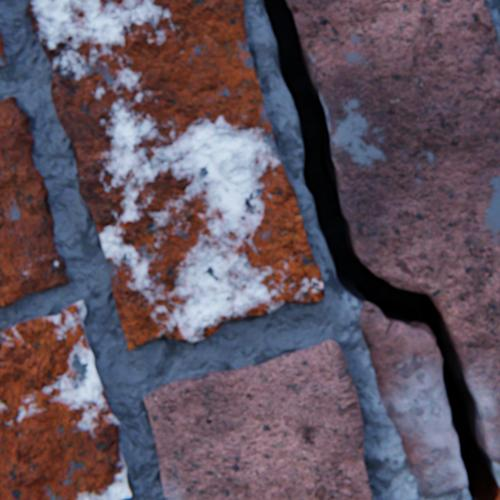brick: (30, 0, 324, 349), (144, 339, 372, 499), (0, 299, 132, 499), (0, 97, 70, 305), (0, 32, 7, 67)
broken_brick: (286, 0, 499, 462), (359, 300, 466, 496), (495, 490, 499, 499)
crack: (261, 0, 499, 499), (303, 269, 324, 295), (292, 250, 302, 267)
